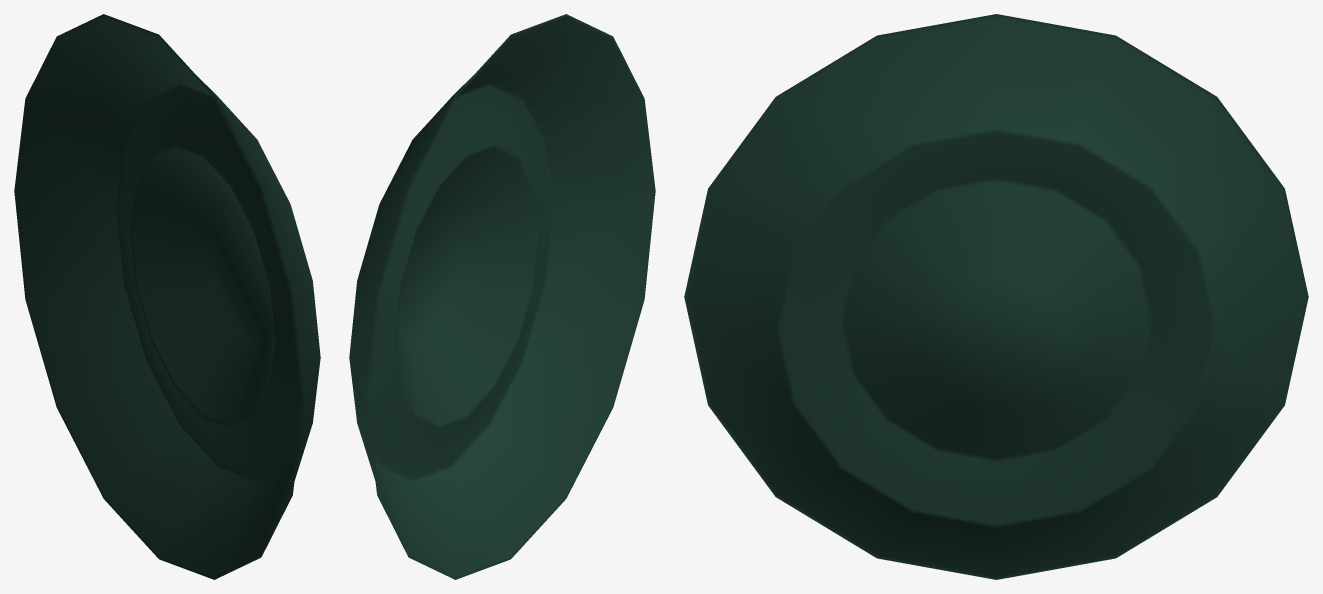
Rendered from innerTire.obj.
3 views of the same model, side by side, from view 1: azimuth 30°, elevation 25°; view 2: azimuth 150°, elevation 25°; view 3: azimuth 270°, elevation 25° (orthographic). The views are drawn at different scales.
Visible parts, largest first — view 1: Circle.005_Circle.007; view 2: Circle.005_Circle.007; view 3: Circle.005_Circle.007.
Boxes of the visible parts, x1,y1,x2,y2 form: Circle.005_Circle.007: (14, 14, 320, 579); Circle.005_Circle.007: (349, 14, 655, 579); Circle.005_Circle.007: (684, 14, 1308, 579).
Bounding box in the file's own units: 0.0656 × 0.3829 × 0.3829.
